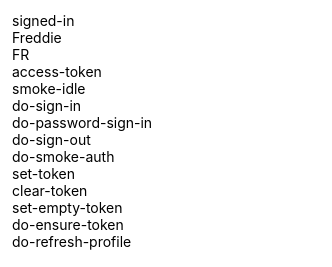
Test case: SessionProvider › refreshes an expired token from ensureAccessToken and app foreground
This screenshot has width=332, height=267.
Expected: the text "signed-in" is shown, [12, 12, 74, 29]
Click the text "do-ensure-token" at [68, 224], box [12, 216, 124, 233]
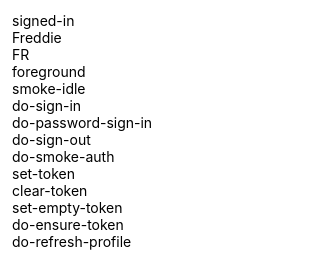
Result: the text "foreground" is shown at [12, 63, 86, 80]
